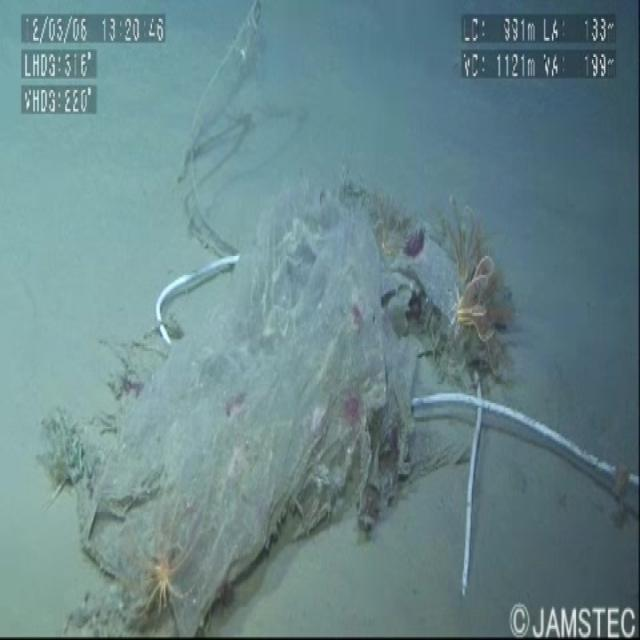Natual-Debris: (413, 207, 507, 351), (333, 156, 408, 269), (127, 502, 195, 611)
Rope: (40, 203, 505, 640)
Wood: (401, 379, 640, 485), (192, 16, 264, 263), (452, 328, 497, 624), (145, 239, 239, 351)
